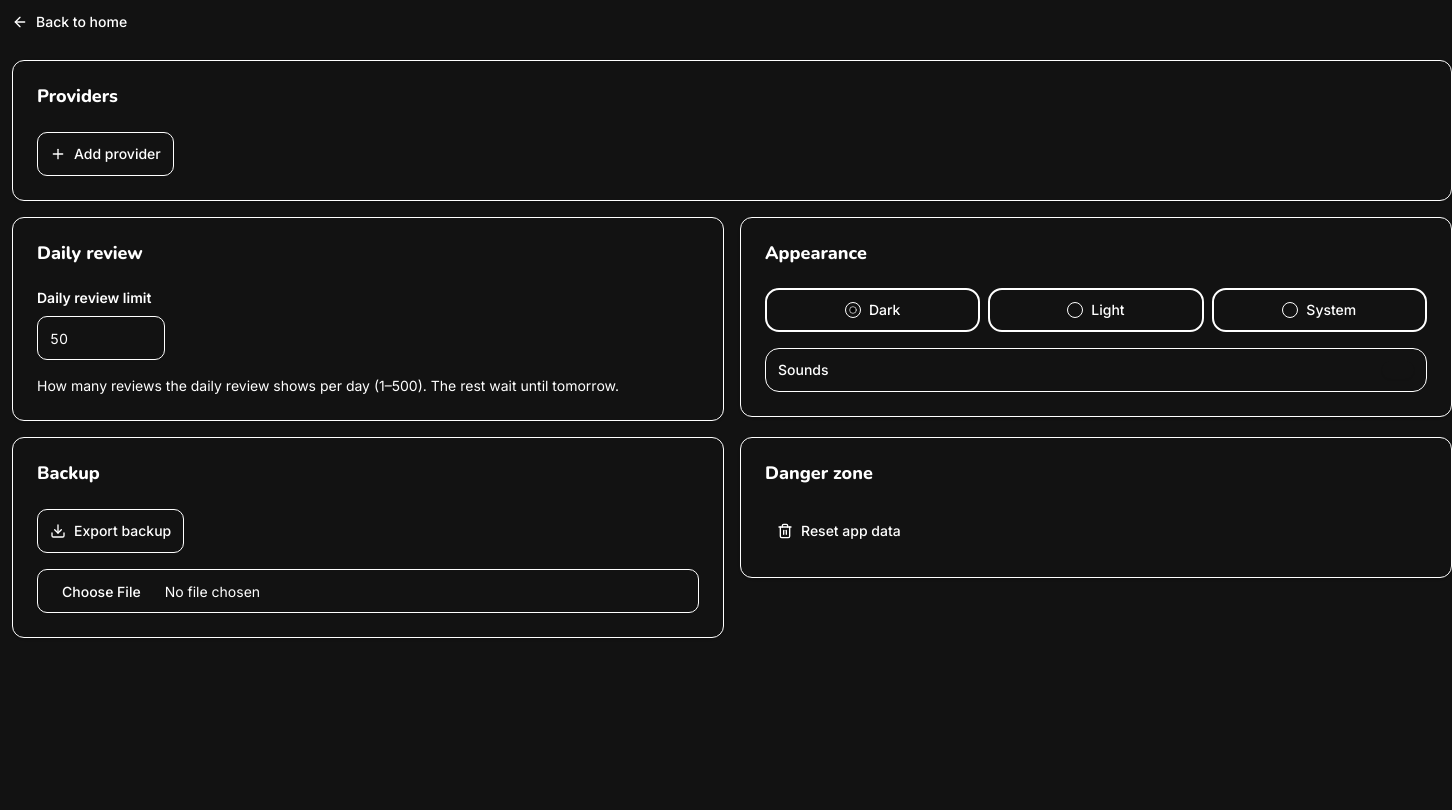
SettingsPage › keeps the connection but reports the problem when models cannot be listed
Click the button "Add provider". click: (105, 154)
box: [37,132,174,176]
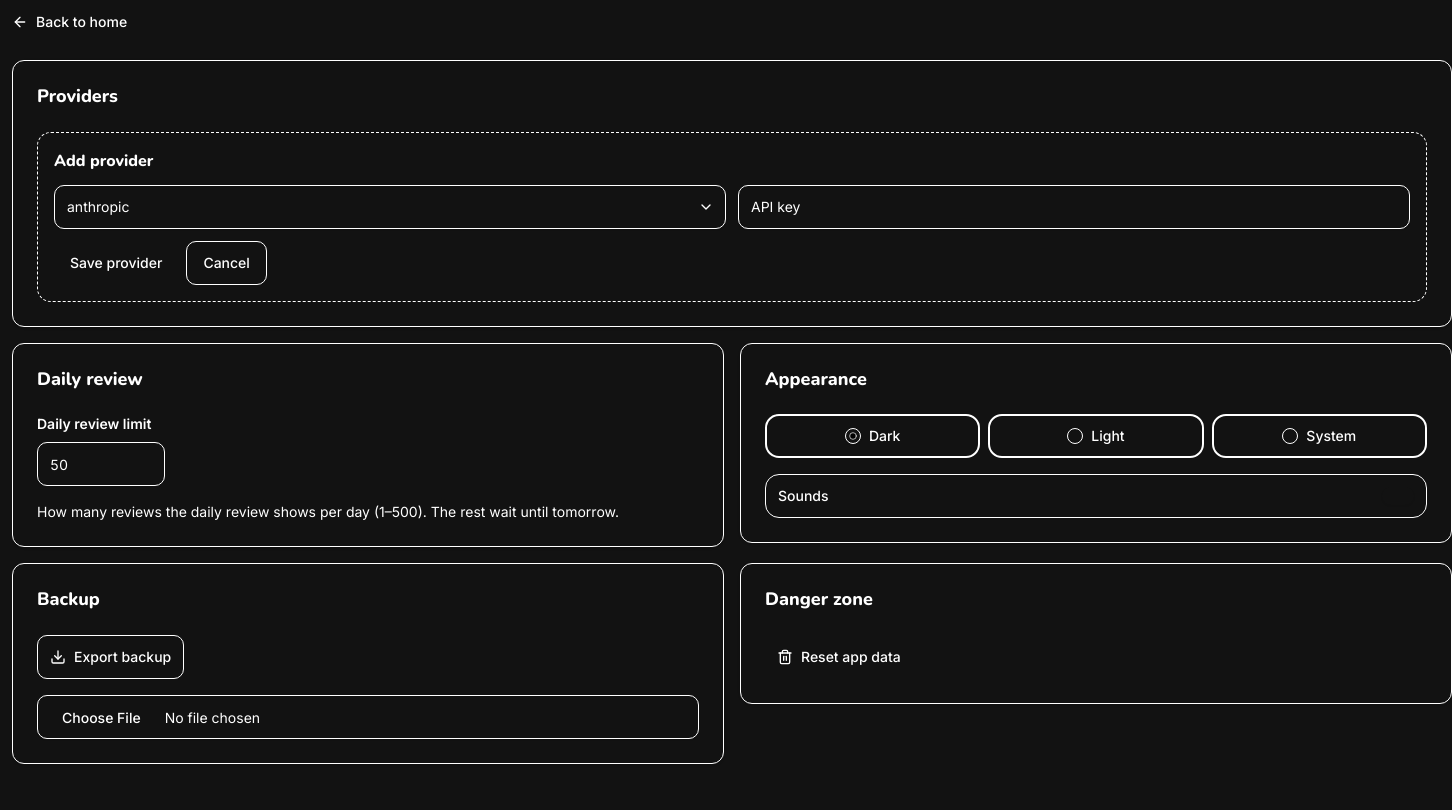
Type "sk-ant" into the password field with placeholder "API key". click: (1074, 206)
box: [738,184,1410,228]
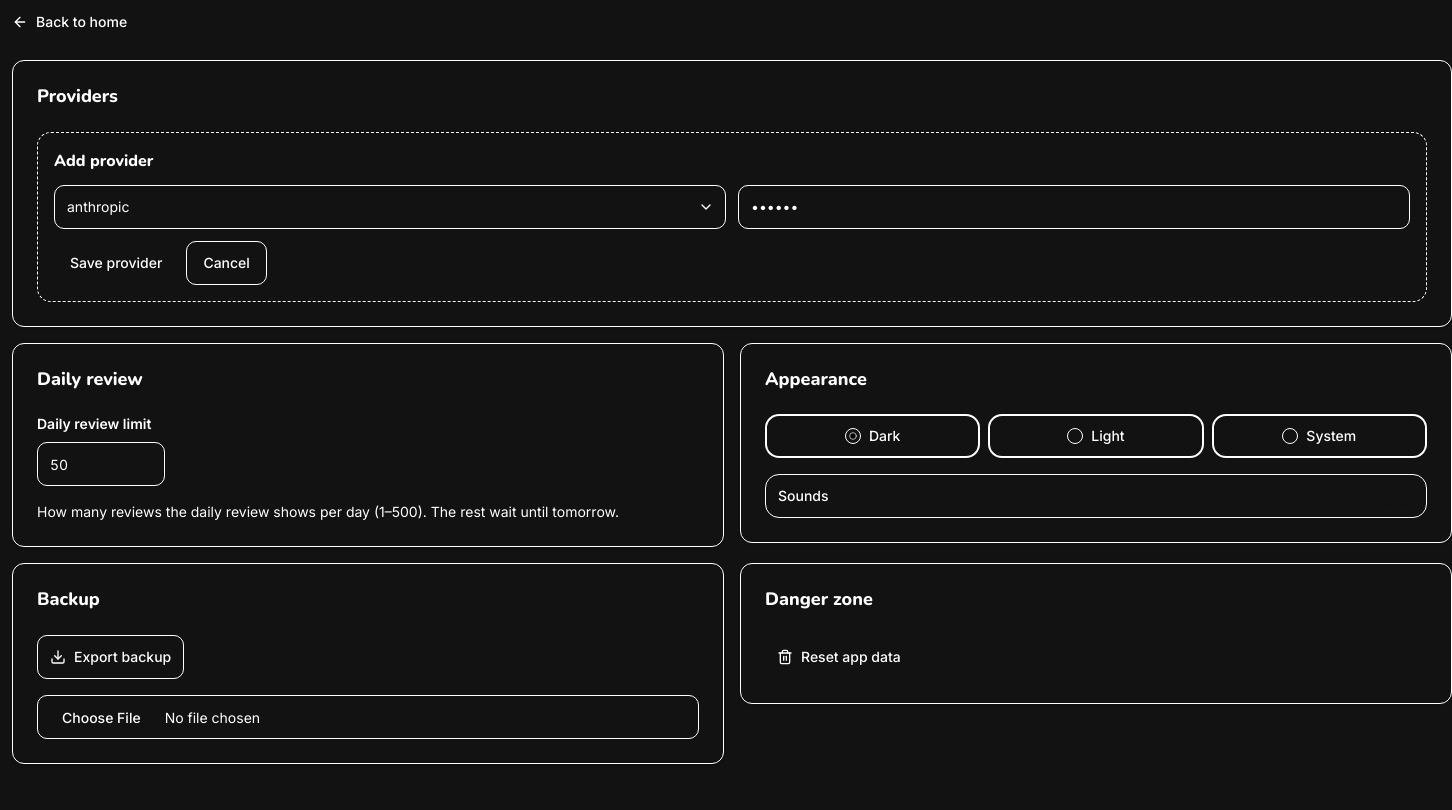
Click the button "Save provider". click: (116, 262)
box: [54,240,178,284]
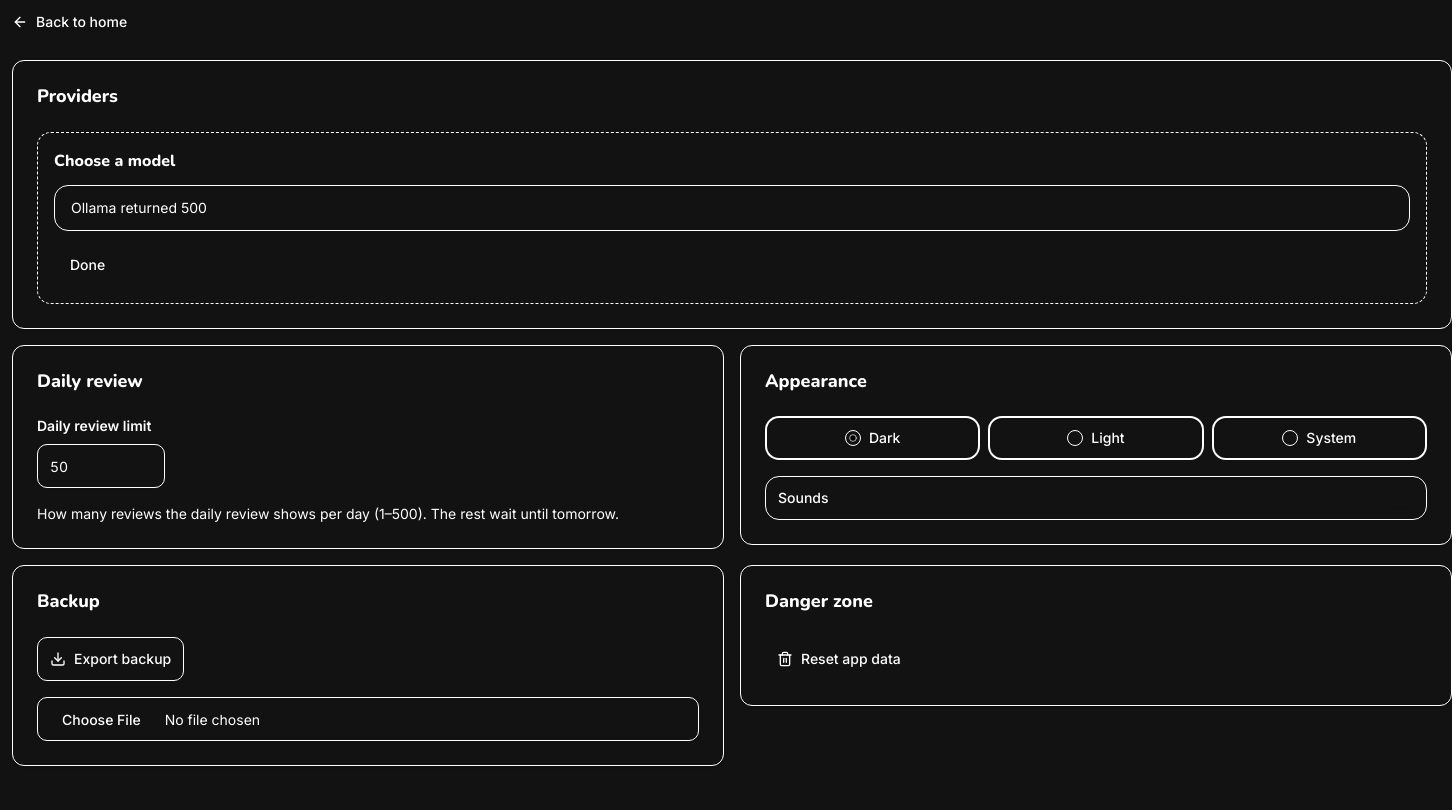
Expected: the message reads "Ollama returned 500", [71,198,207,216]
Expected: the button "Done" is shown, [54,242,121,286]
